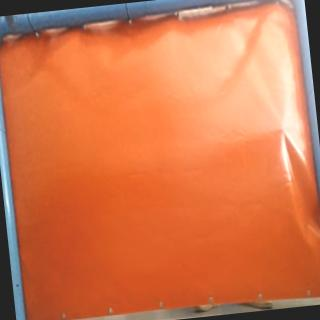Hit-hRxx: (272, 120, 292, 138)
